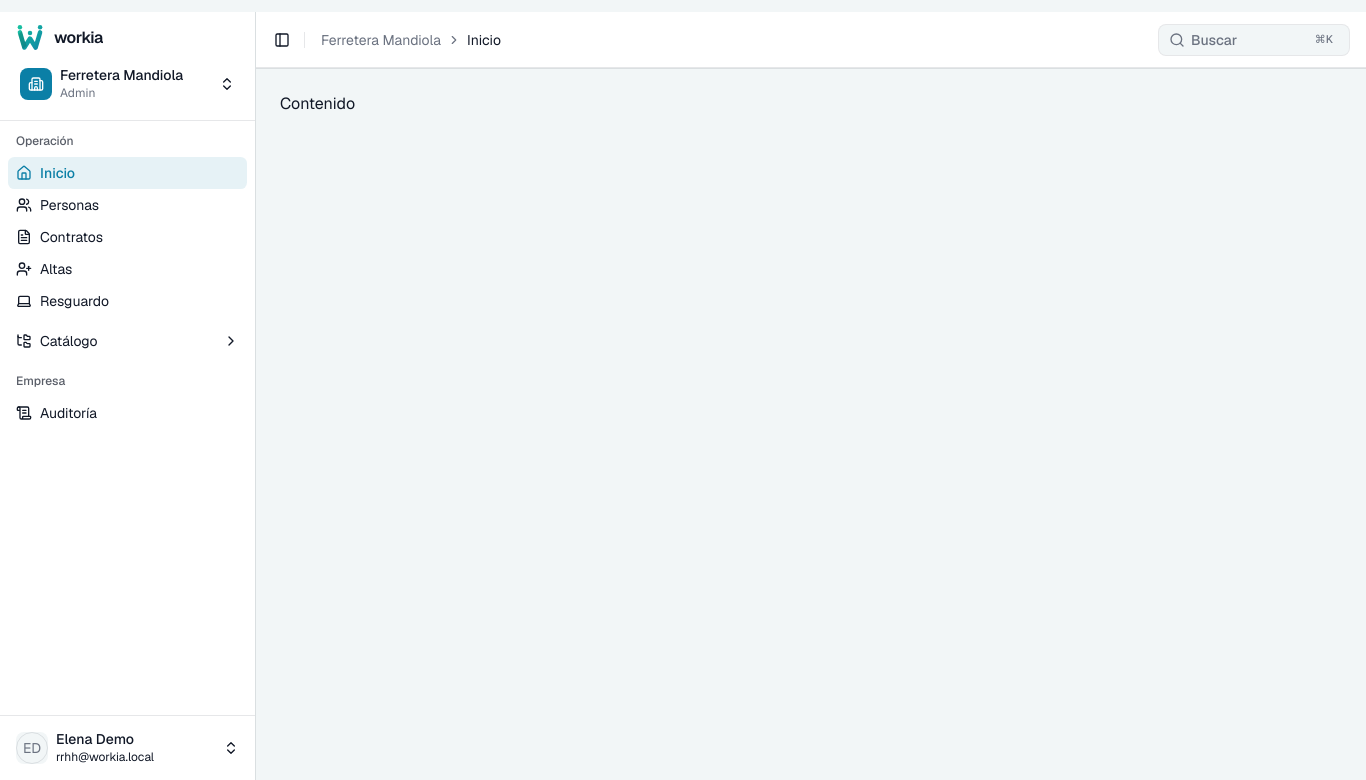
Test: AppShell › starts the top loader on Inicio → Personas and keeps the desktop sidebar
Check: the element that starts with "workia" is shown, box top-left (0, 12), bottom-right (256, 779)
Step 1. Click the link "Personas" → (58, 205), box top-left (16, 196), bottom-right (99, 214)
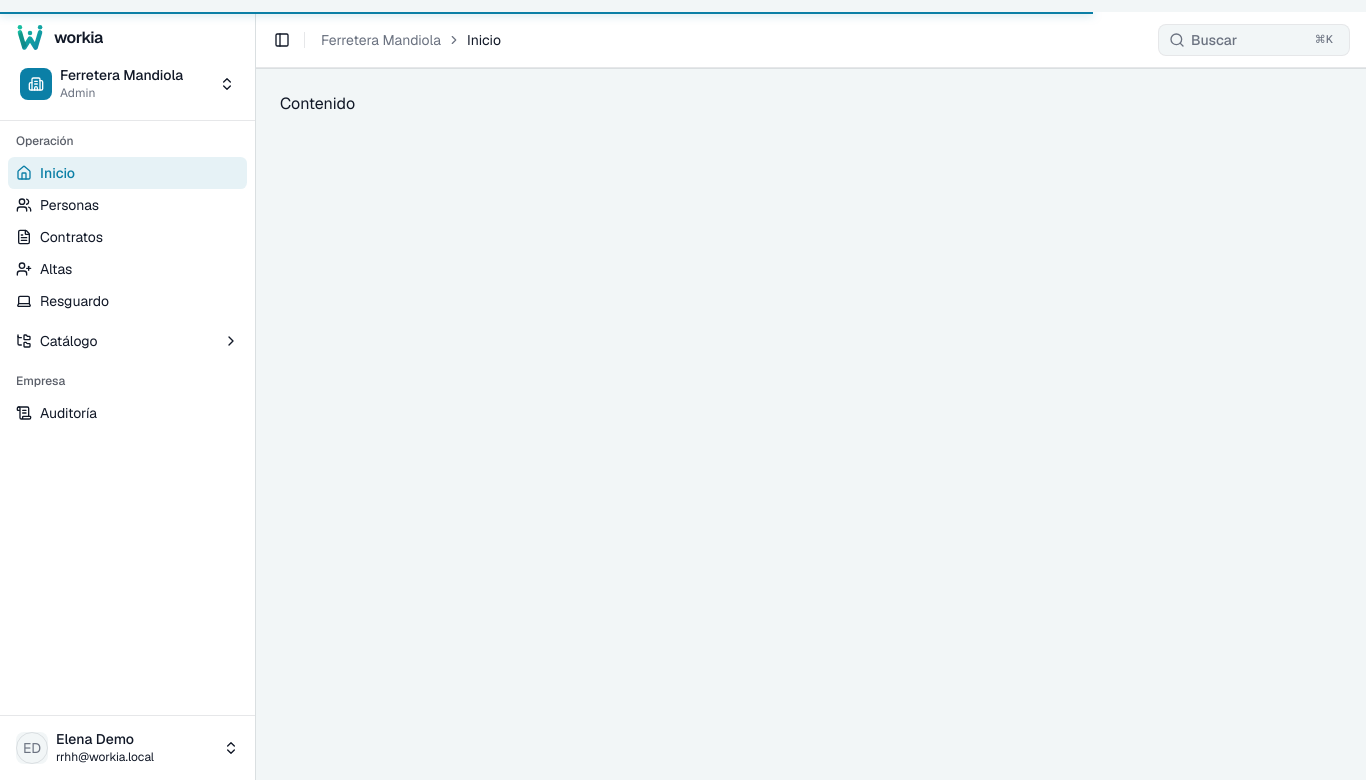
Check: the element that starts with "workia" is shown, box top-left (0, 12), bottom-right (256, 779)
Check: the progress indicator named "Cargando página" is shown, box top-left (0, 12), bottom-right (1093, 14)
